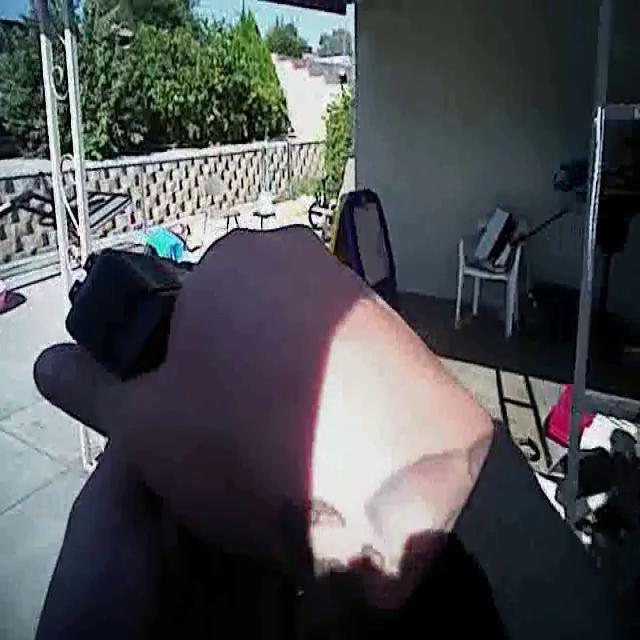gun: (25, 179, 278, 484)
